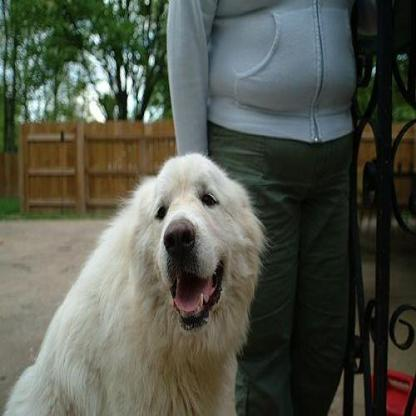Great_Pyrenees: (3, 150, 264, 413)
